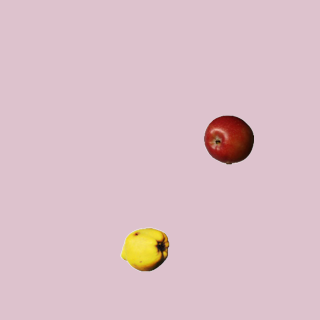Apple Braeburn: (203, 114, 253, 164)
Quince: (119, 224, 169, 274)
